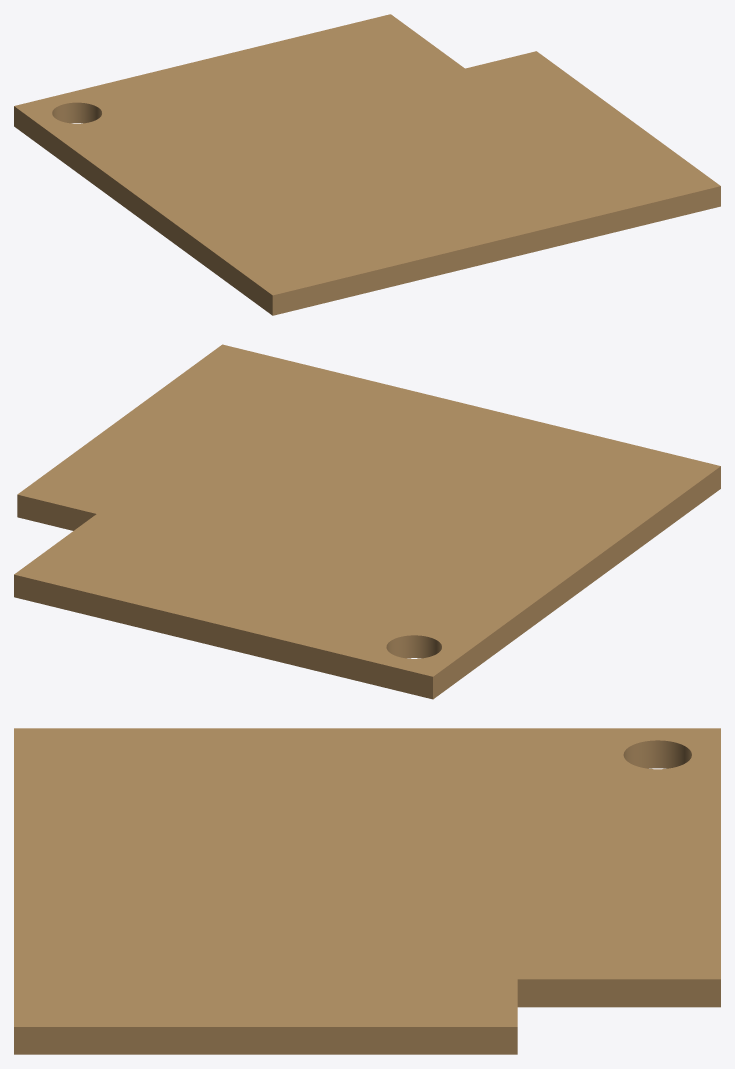
Rendered from gab_divisoria.glb.
The picture shows the model from 3 angles, top to bottom: view 1: azimuth 30°, elevation 25°; view 2: azimuth 150°, elevation 25°; view 3: azimuth 270°, elevation 25°; orthographic projection. The views are drawn at different scales.
Visible parts, largest first — view 1: gab_divisoria; view 2: gab_divisoria; view 3: gab_divisoria.
Boxes of the visible parts, x1,y1,x2,y2 form: gab_divisoria: (14,14,720,315); gab_divisoria: (14,344,720,699); gab_divisoria: (14,728,720,1054).
Bounding box in the file's own units: 414 × 18 × 414.
